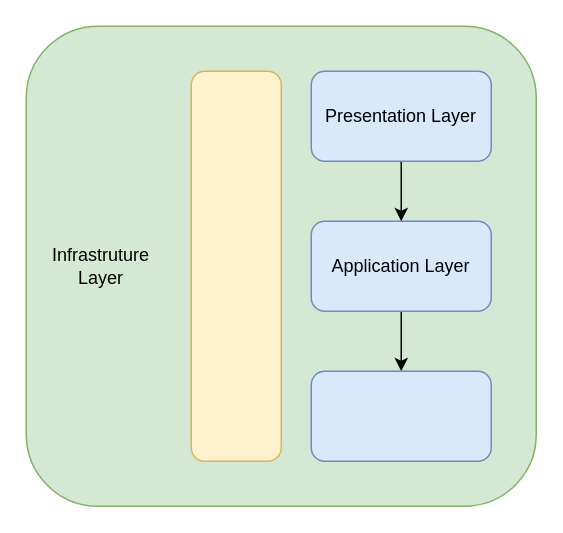
This 563x533 diagram has some shape labels left out. Each missing label, with the centre of its shape:
"Data Layer" goes at [400,415].
"Security Layer" goes at [235,265].
